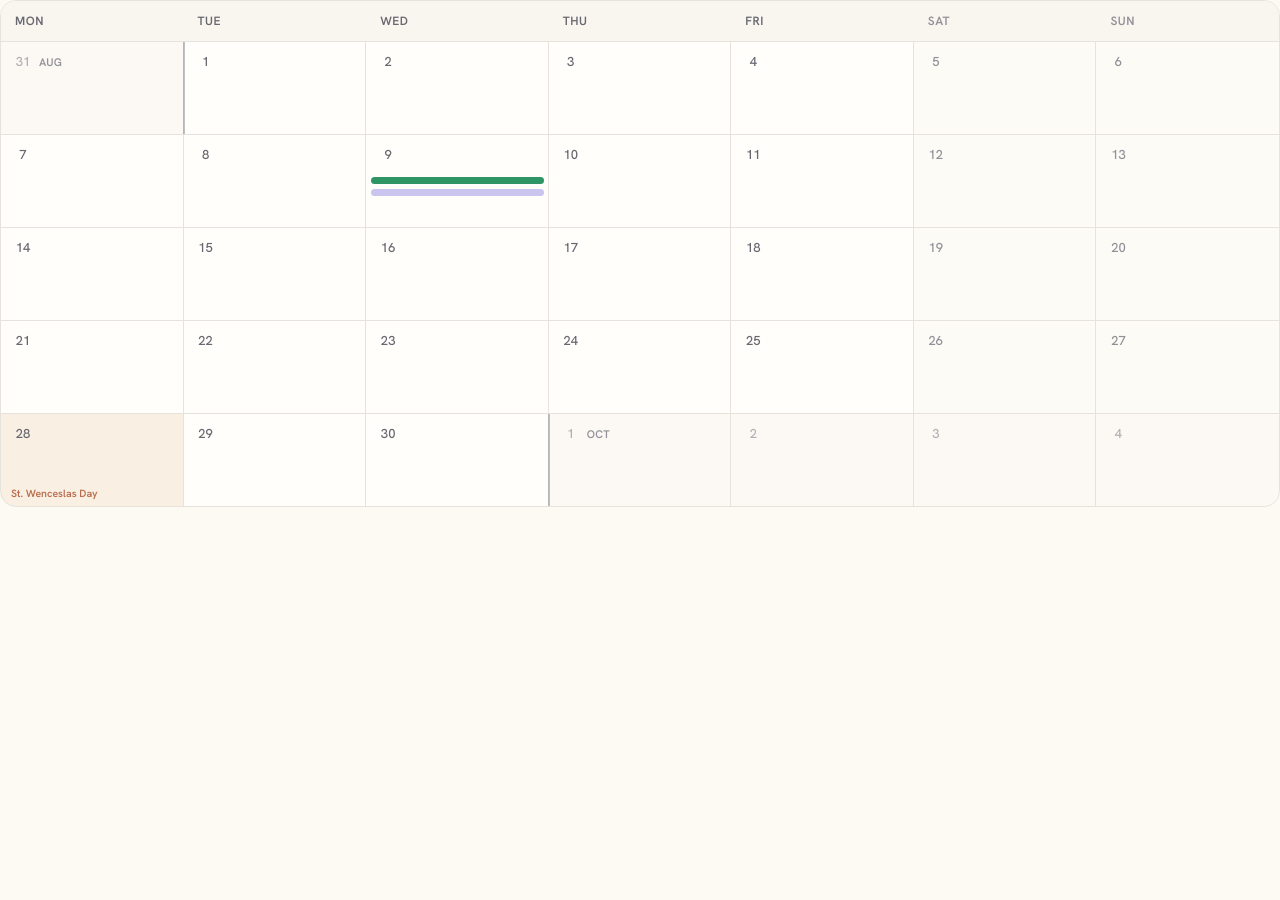
Test: StripeCalendar › opens the day list on click, the viewer first with the half-day and pending marks
What coordinates should you click on to do the following:
click the button "9"
I would click on:
 (457, 181)
Its box is top-left (366, 135), bottom-right (549, 227).
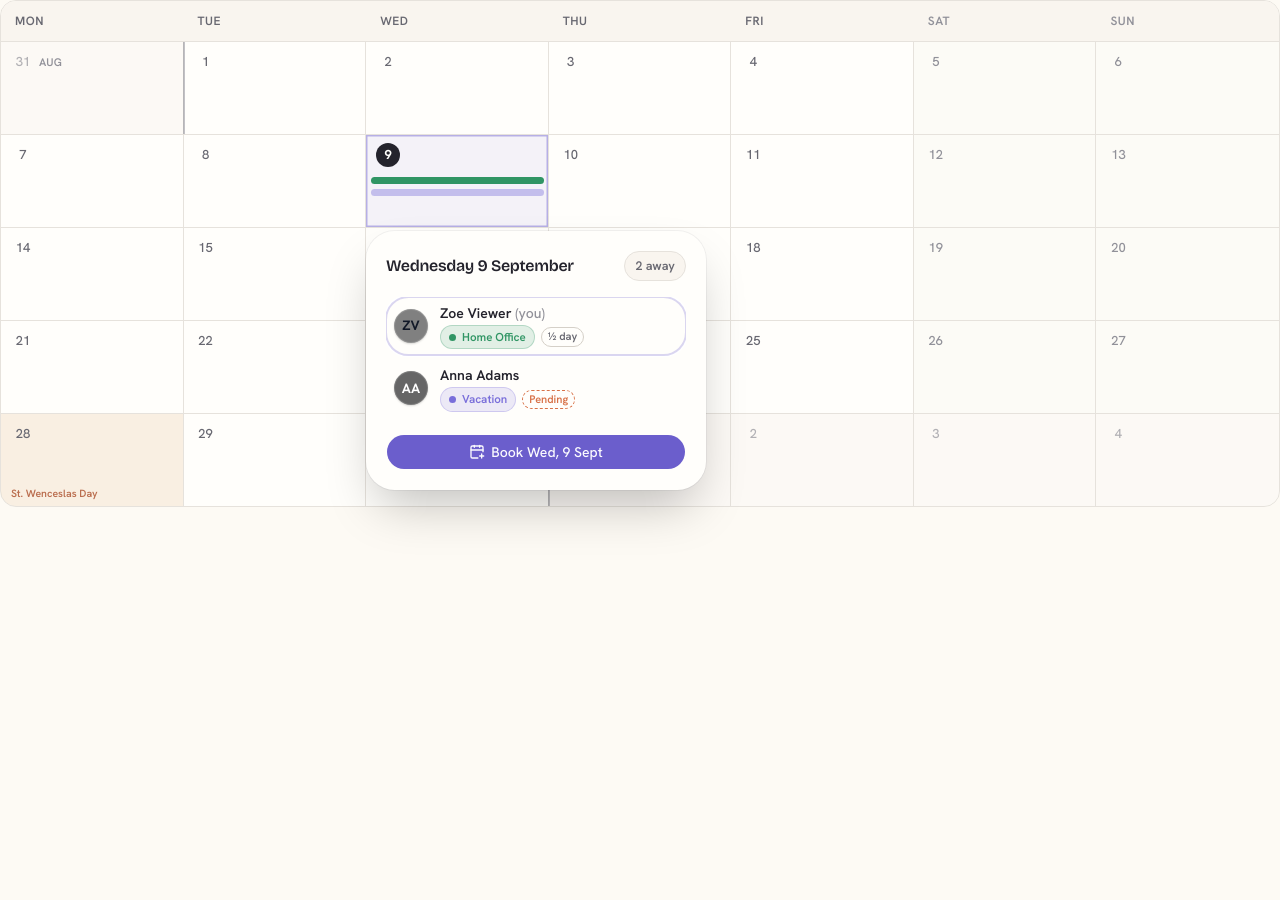
Check: the list item "ZV Zoe Viewer (you) Home Office ½ day" is shown, box top-left (386, 297), bottom-right (686, 355)
Check: the list item "AA Anna Adams Vacation Pending" is shown, box top-left (386, 359), bottom-right (686, 418)
Check: the text "2 away" is shown, box top-left (624, 251), bottom-right (686, 281)
